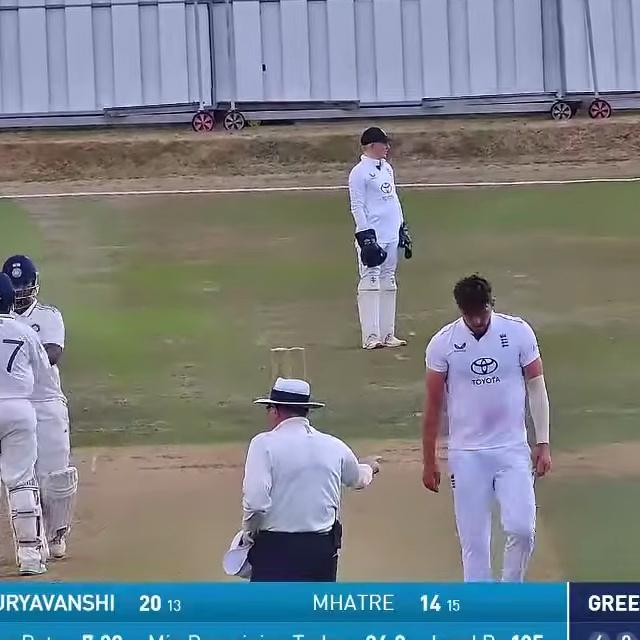umpire: (216, 370, 383, 640)
